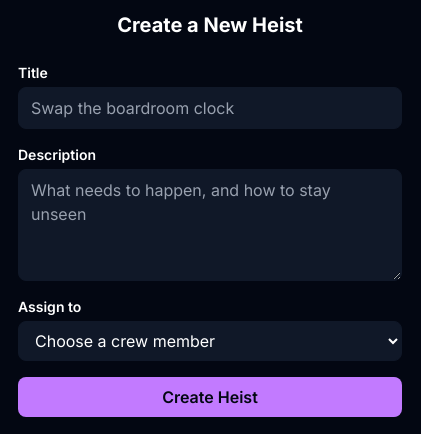
Scenario: CreateHeistPage › shows a loading state while the heist is being saved
Type "Swap the clock" into the field labelled "Title" at (210, 108), box [18,87,402,129]
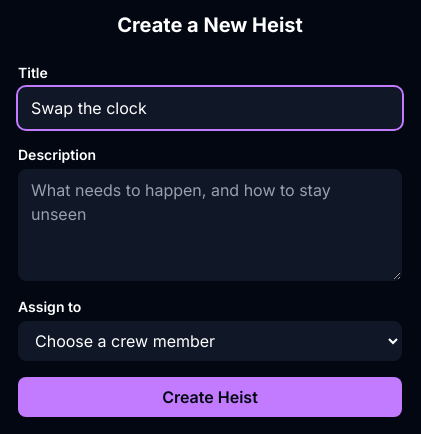
Type "Ten minutes fast" into the text box labelled "Description" at (210, 225), box [18,169,402,281]
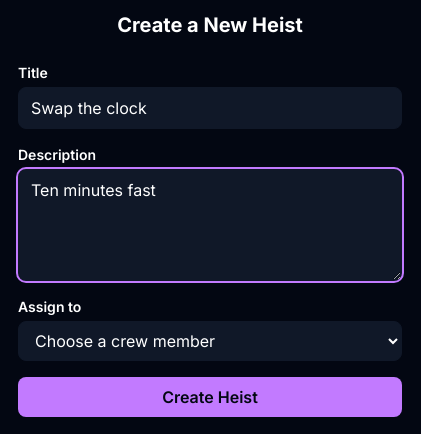
Select "MidnightJadeOtter" in the dropdown labelled "Assign to" at (210, 341), box [18,321,402,361]
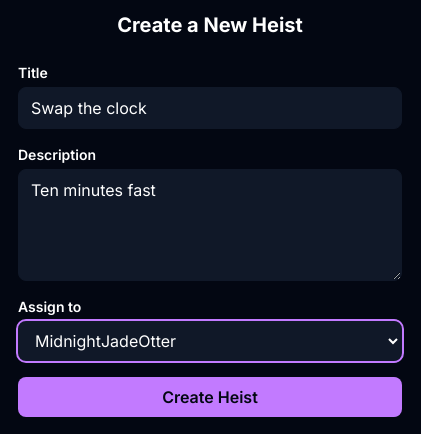
Click the button "Create Heist" at (210, 397), box [18,377,402,417]
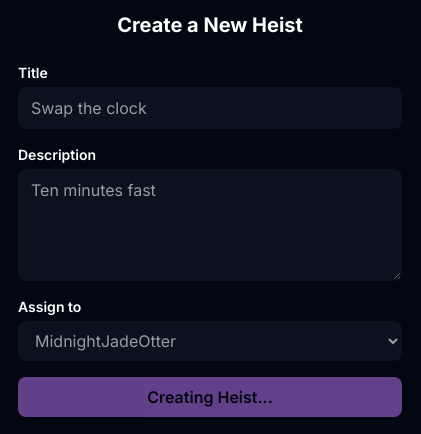
Result: the button "Creating Heist..." is disabled at [18,377,402,417]
